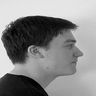ear: (24, 41, 46, 62)
